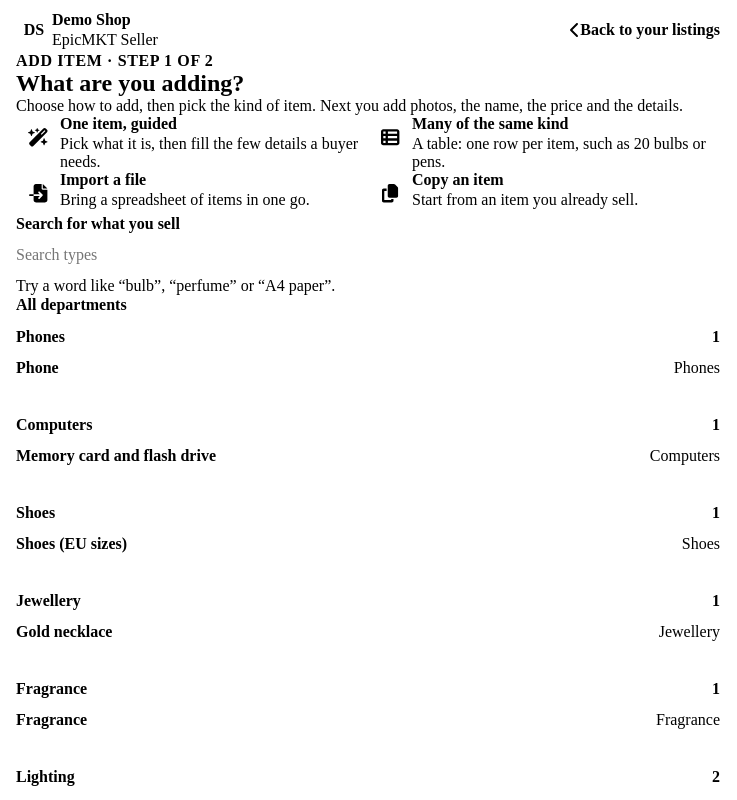
Add items entry › shows the four ways in, and copying an item opens the copy as a draft
This screenshot has width=737, height=800.
Later steps or results of the test are not shown.
Expected: the heading "What are you adding?" is shown, [16,70,244,96]
Expected: the button "One item, guided" is shown, [16,115,368,171]
Click the button "Copy an item Start from an item you already sell." at (544, 193), box [368,171,720,215]
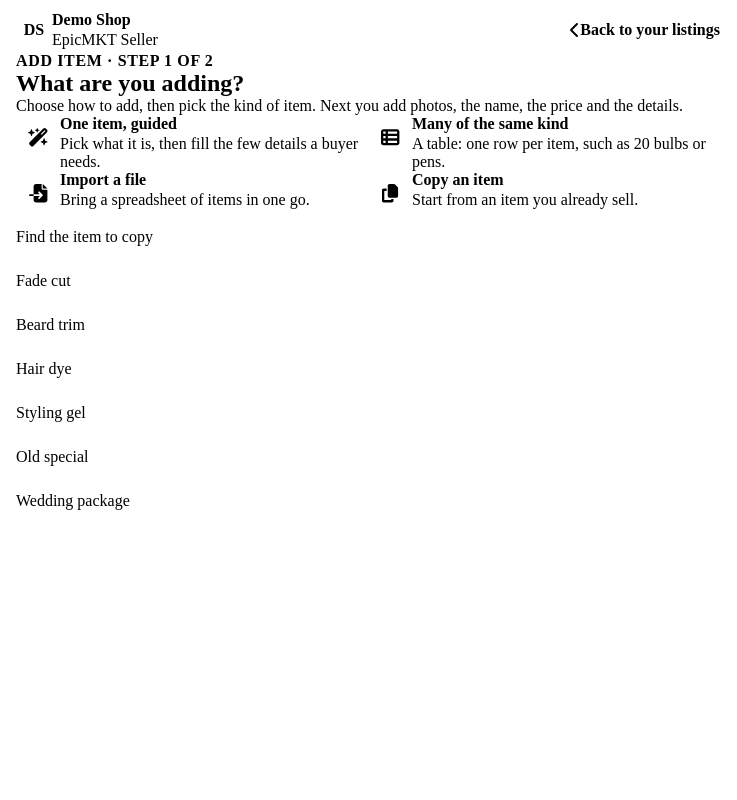
Now the list item "Fade cut" is shown, box [16,259,720,303]
